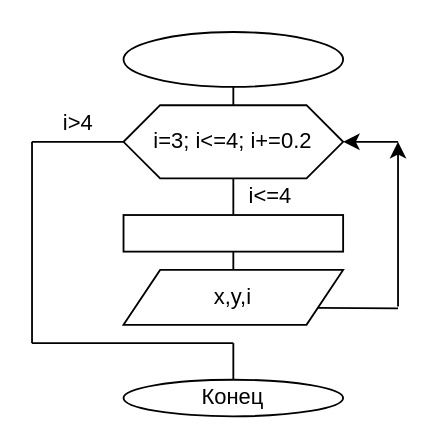
This 445x448 diagram has some shape labels left out. The shapes that lost their labels are listed below. From the top down, each one's centre as x and y in pixels, then its label:
(x=232, y=58): Начало
(x=232, y=232): x,y
